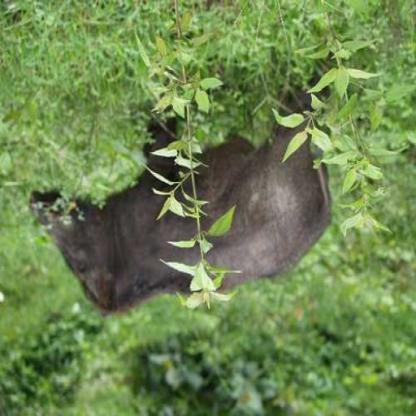boar: (21, 77, 365, 327)
